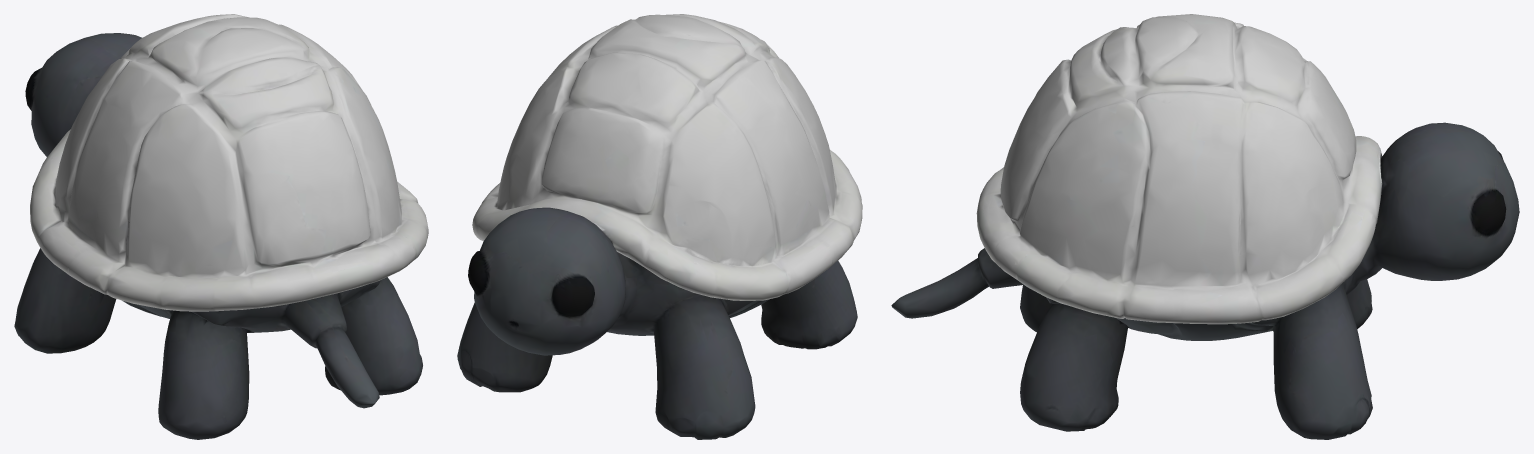
Rendered from pet-turtle.glb.
The picture shows the model from 3 angles, left to right: view 1: azimuth 30°, elevation 25°; view 2: azimuth 150°, elevation 25°; view 3: azimuth 270°, elevation 25°; orthographic projection. The views are drawn at different scales.
Parts seen in each view (by area): view 1: tripo_node_b8d0a71d-7064-4097-8c07-f1dbc3e0a857; view 2: tripo_node_b8d0a71d-7064-4097-8c07-f1dbc3e0a857; view 3: tripo_node_b8d0a71d-7064-4097-8c07-f1dbc3e0a857.
Part boxes in pixels (x1,y1,x2,y2): tripo_node_b8d0a71d-7064-4097-8c07-f1dbc3e0a857: (14, 14, 428, 439); tripo_node_b8d0a71d-7064-4097-8c07-f1dbc3e0a857: (457, 14, 862, 439); tripo_node_b8d0a71d-7064-4097-8c07-f1dbc3e0a857: (891, 14, 1519, 439).
Size of the model in its own units: 0.6279 by 0.6106 by 1.
Materials: 1 (1 with a texture image).
